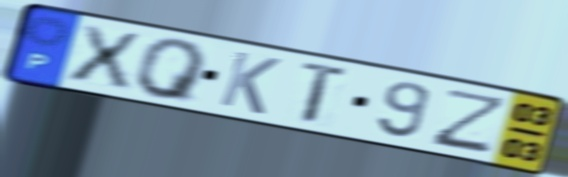9: (375, 81, 432, 139)
K: (215, 48, 284, 118)
Q: (133, 38, 211, 106)
T: (298, 58, 353, 126)
X: (64, 21, 145, 92)
Z: (427, 87, 513, 156)
